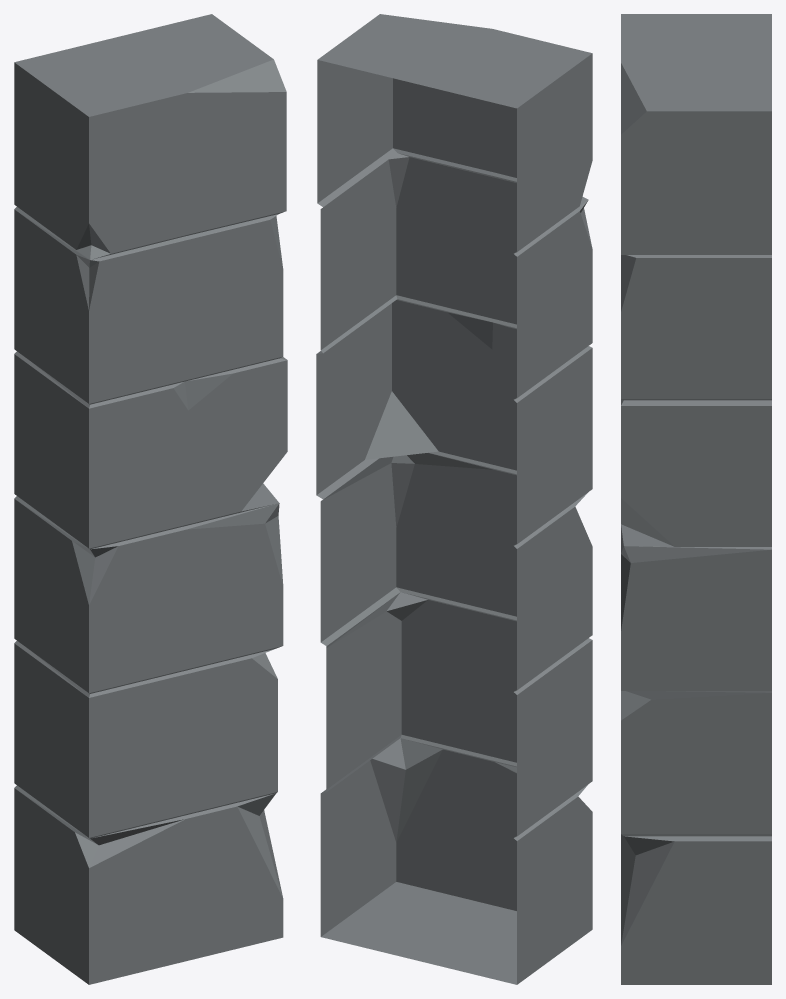
Rendered from Pilier_B.FBX.
3 renders of one model, left to right at view 1: azimuth 30°, elevation 25°; view 2: azimuth 150°, elevation 25°; view 3: azimuth 270°, elevation 25°, orthographic.
Parts seen in each view (by area): view 1: Pilier_B; view 2: Pilier_B; view 3: Pilier_B.
Boxes of the visible parts, box(x1,y1,x2,y2) form: Pilier_B: box(14, 14, 287, 984); Pilier_B: box(316, 14, 592, 984); Pilier_B: box(621, 14, 771, 984).
Bounding box in the file's own units: 61.35 × 256 × 40.
1 material, 1 textured.
